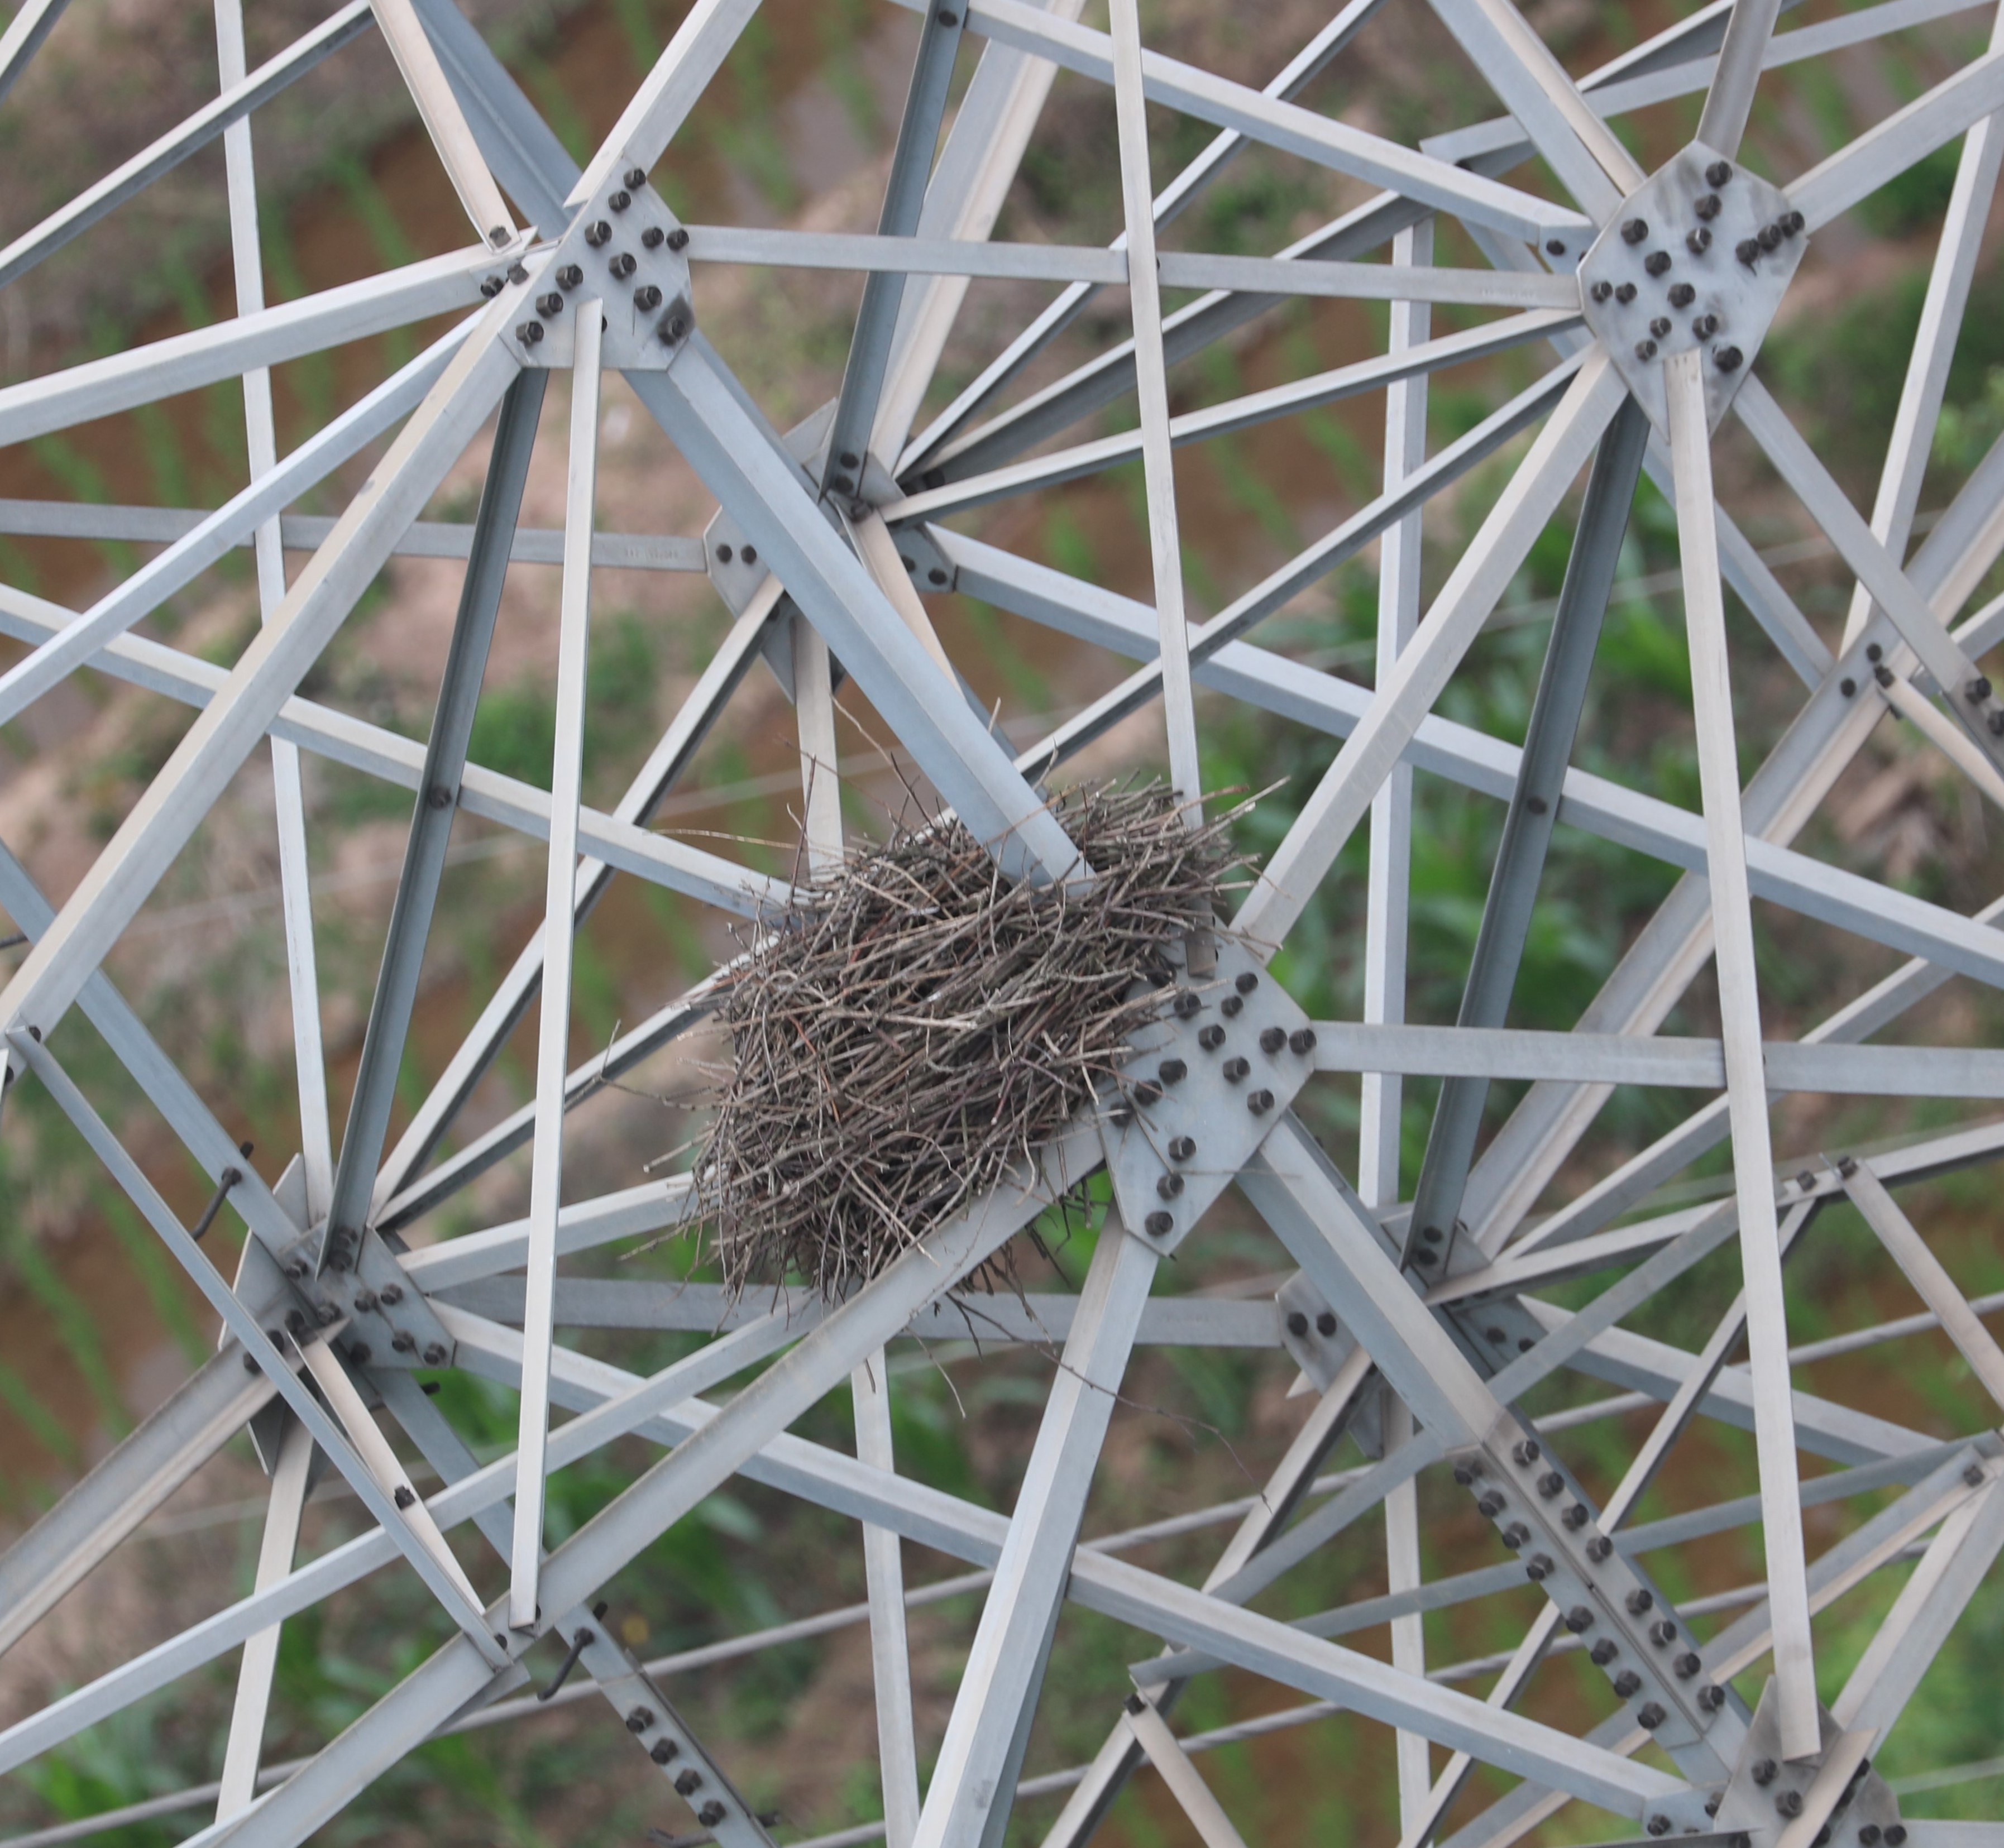niaowo: (703, 752, 1257, 1305)
